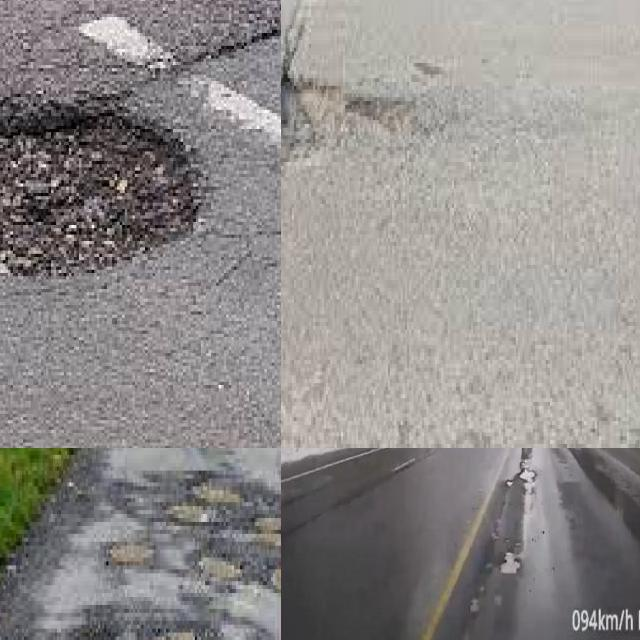Pothole: (0, 109, 205, 280), (281, 74, 407, 165), (168, 471, 244, 526), (199, 554, 242, 581), (106, 546, 154, 569), (497, 550, 525, 580), (259, 518, 281, 542), (518, 460, 538, 486), (469, 598, 480, 614), (522, 448, 533, 460), (505, 478, 515, 488), (494, 595, 503, 606), (484, 562, 494, 571), (514, 543, 523, 547)
